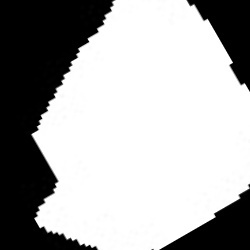spot: (33, 1, 249, 249)
